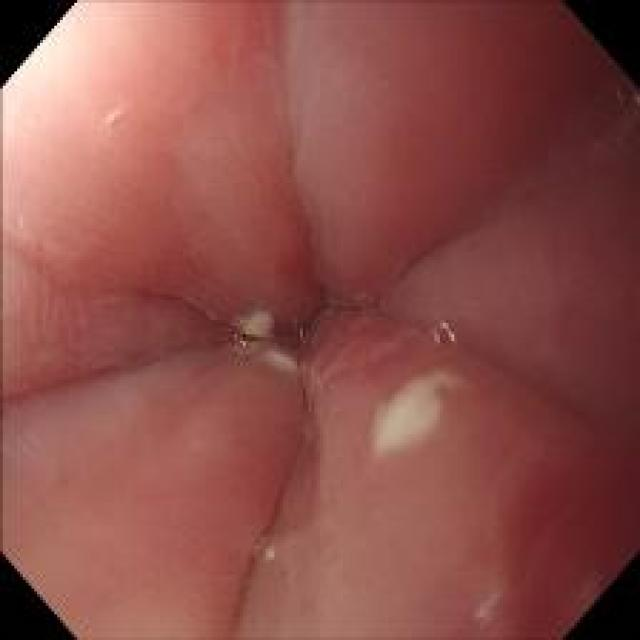bubbles: (361, 285, 380, 311)
color misalignment: (431, 318, 460, 349), (232, 334, 252, 352)
